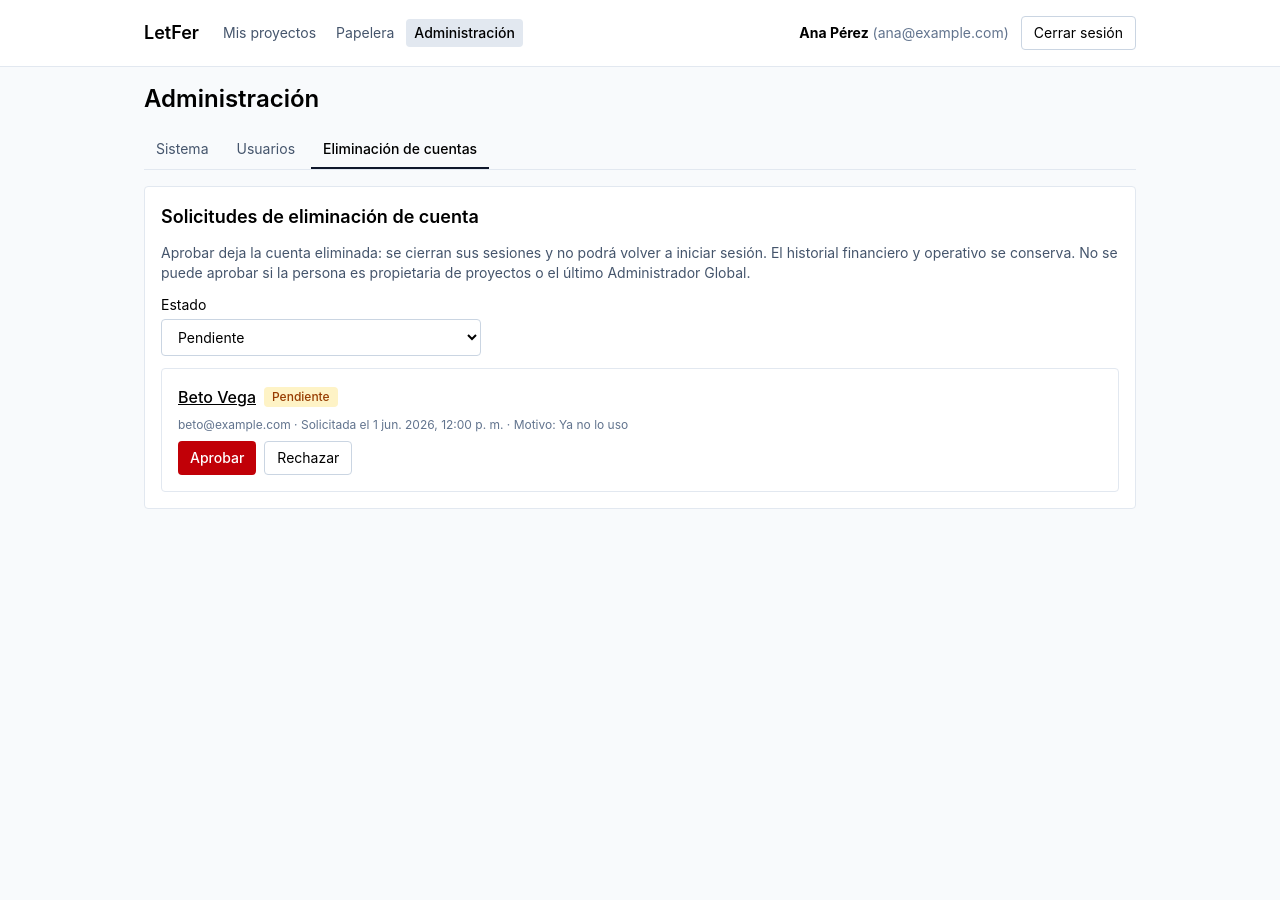
Test: solicitudes de eliminación de cuenta (§8) › aprueba con reautenticación y recarga la lista
The image size is (1280, 900).
Click the button with aria-label "Aprobar la eliminación de Beto Vega" at [217, 458], box [178,441,256,475]
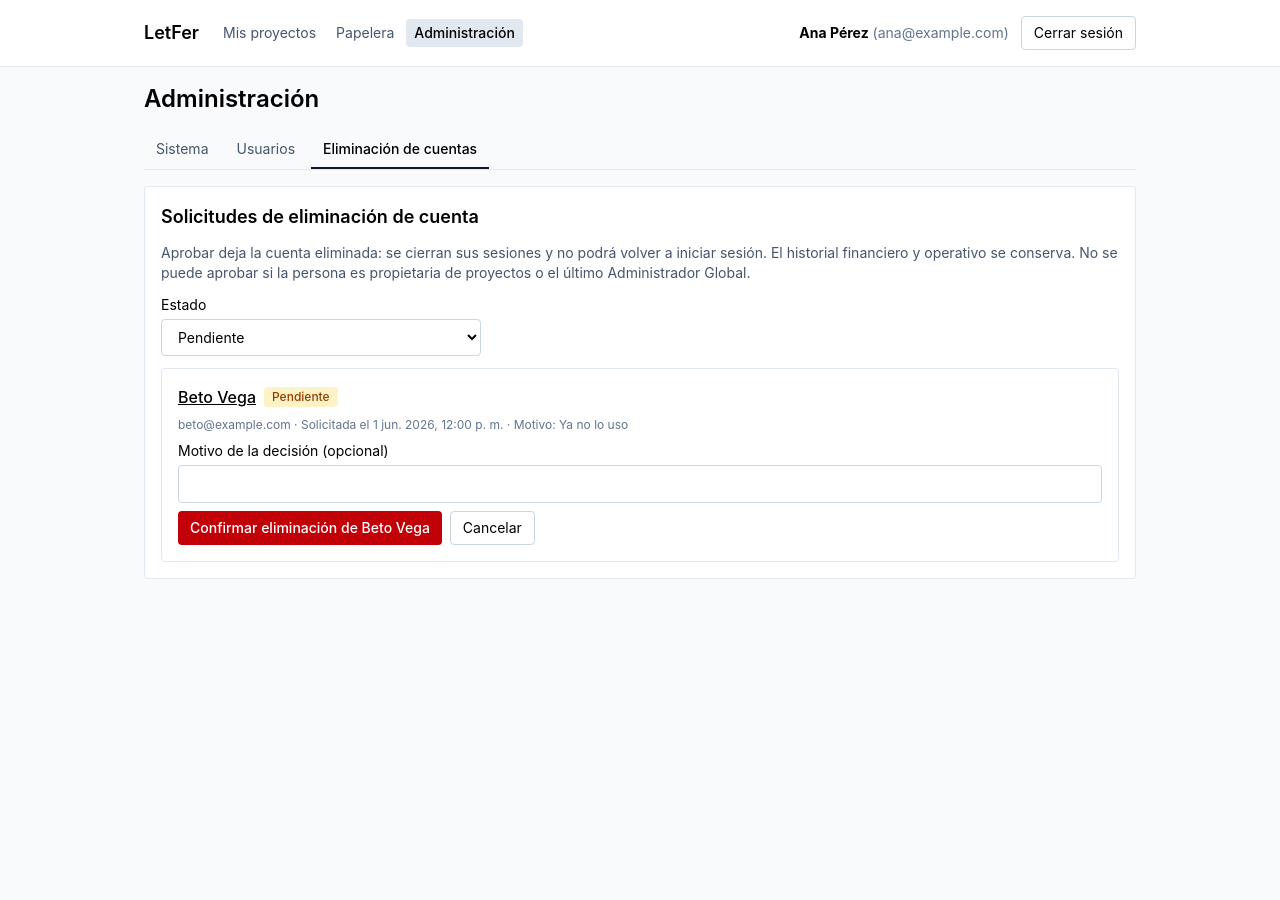
Type "Confirmado por correo" into the field labelled "Motivo de la decisión (opcional)" at [640, 484], box [178,465,1102,503]
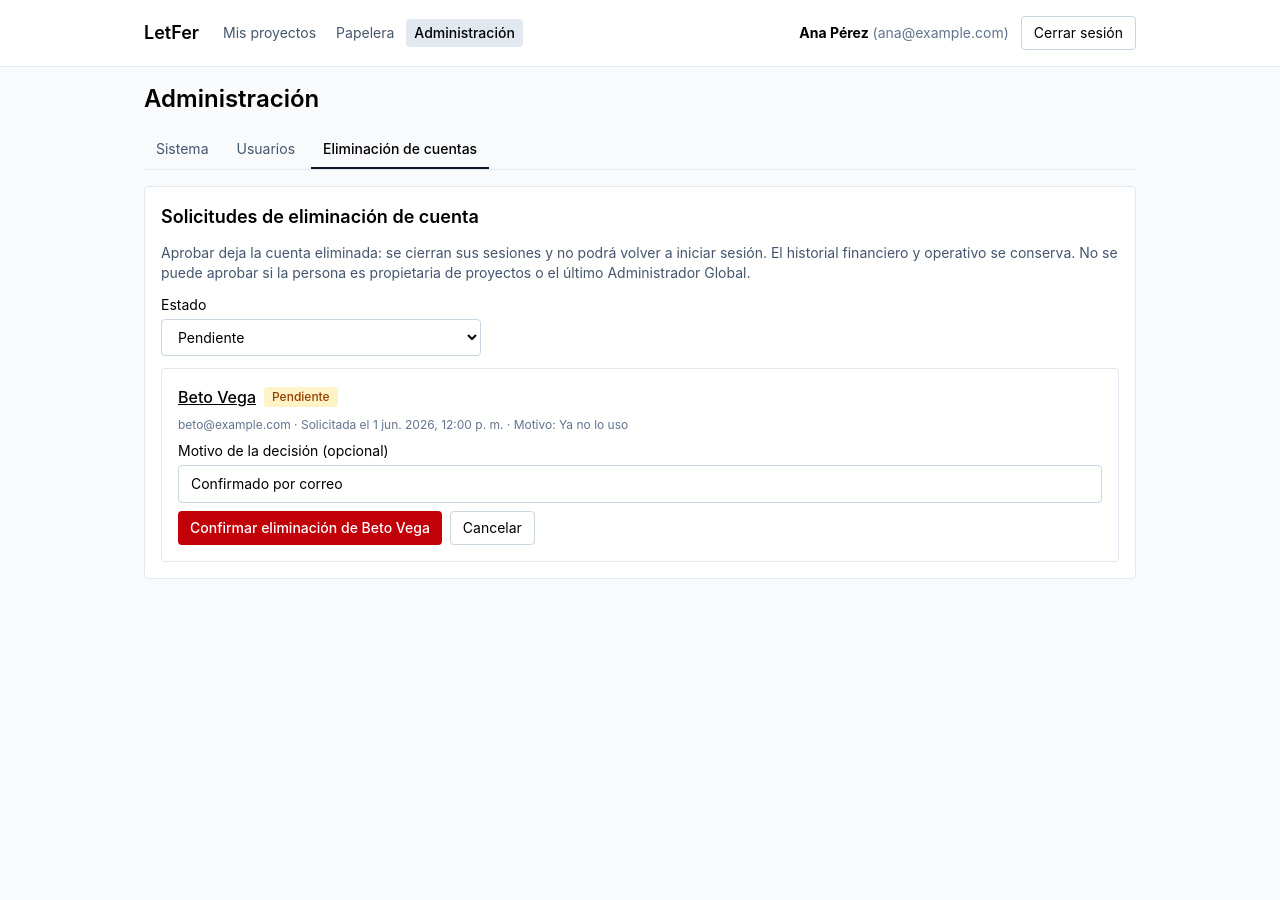
Click the button "Confirmar eliminación de Beto Vega" at [310, 528], box [178,511,442,545]
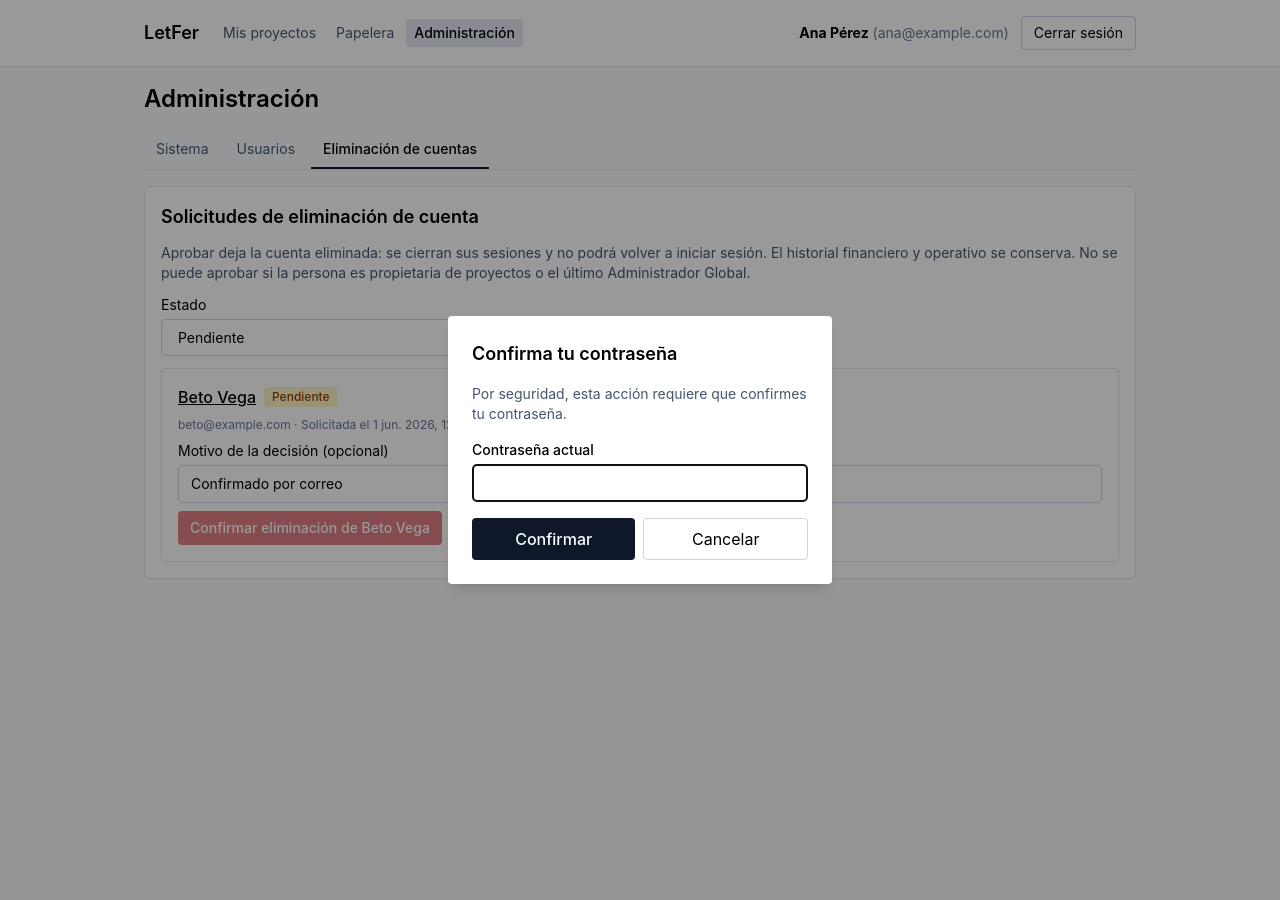
Type "mi-clave-secreta" into the password field labelled "Contraseña actual" at [640, 483], box [472,464,808,502]
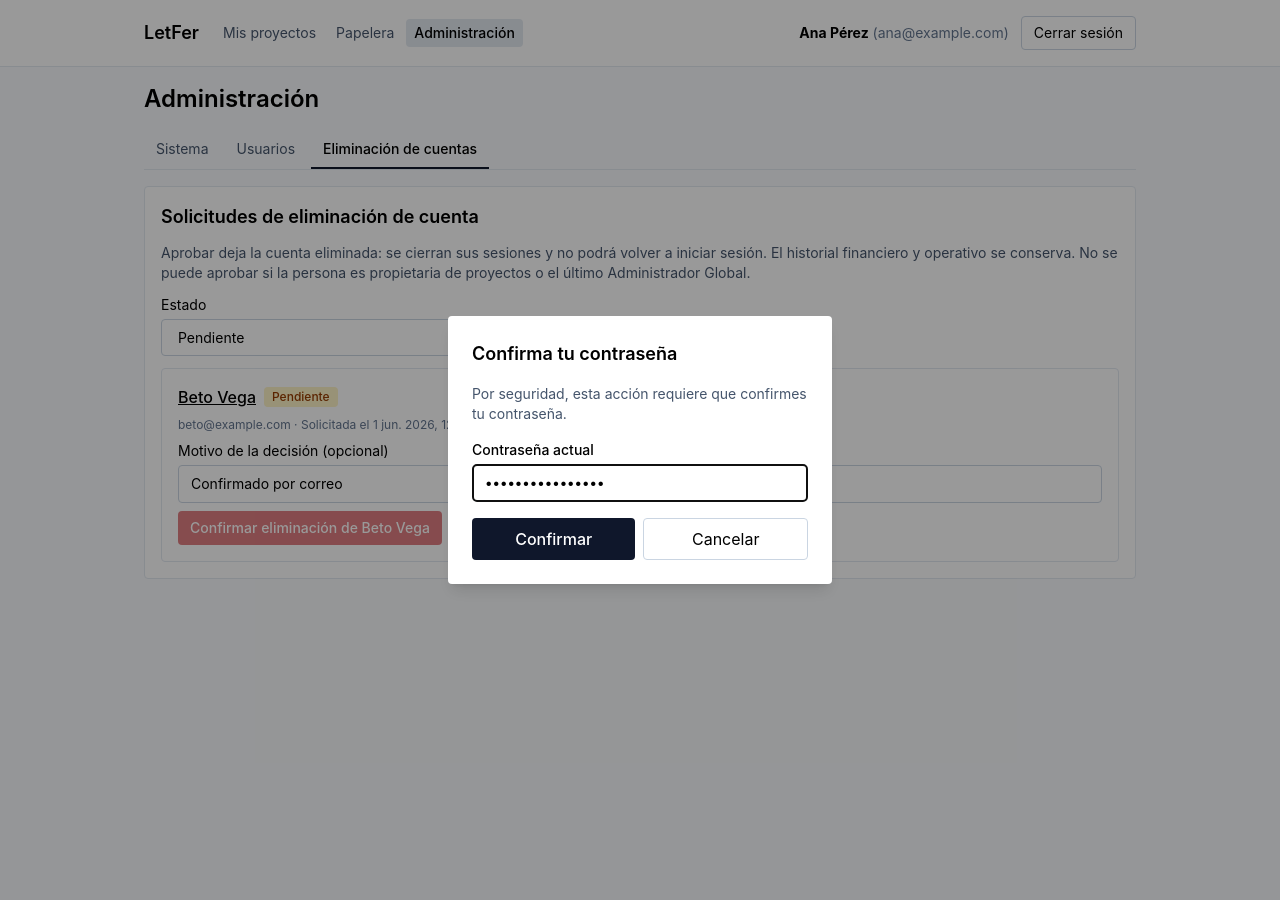
Click the button "Confirmar" at [554, 539], box [472,518,635,560]
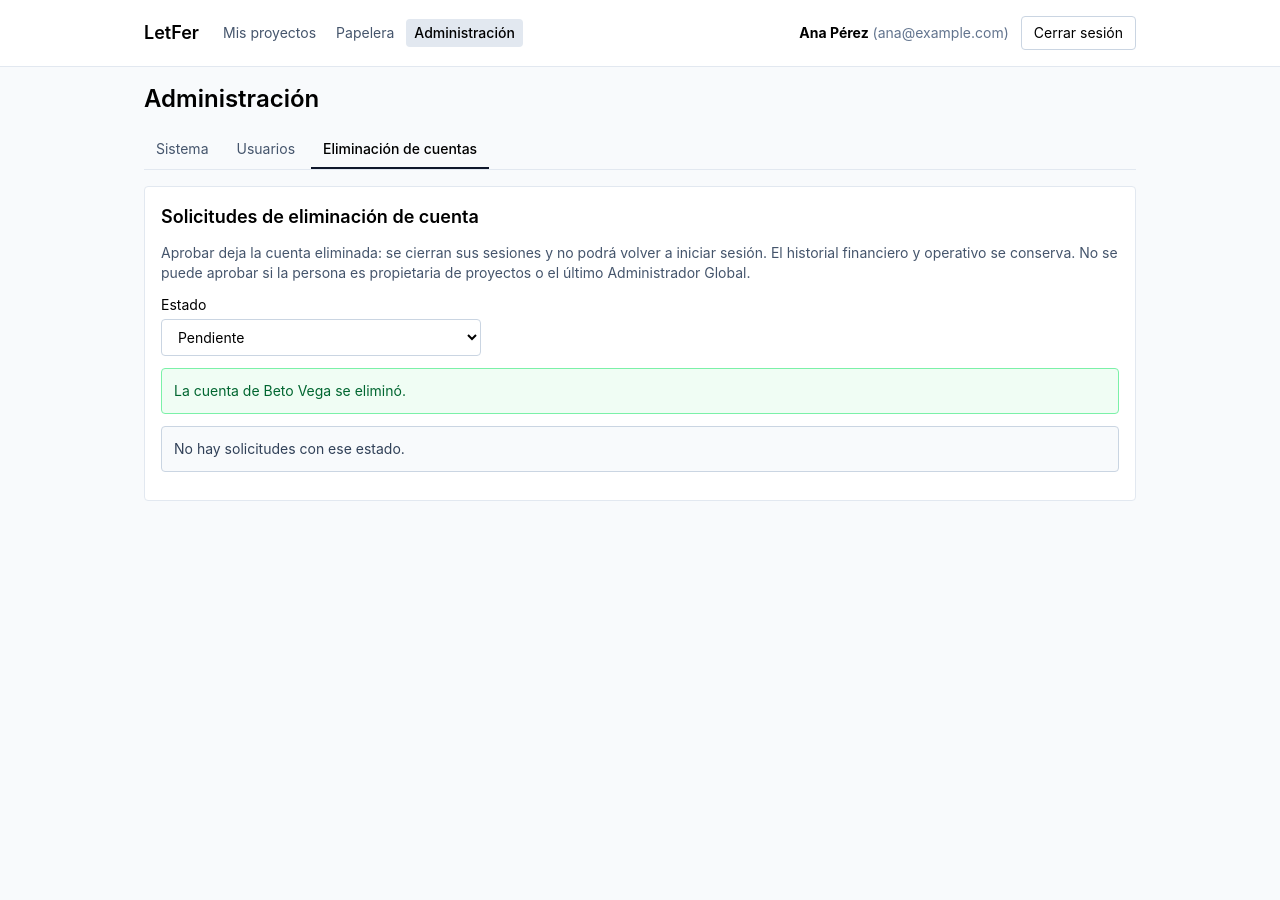
Now the text "La cuenta de Beto Vega se eliminó." is shown, box [161,368,1119,414]
Now the text "No hay solicitudes con ese estado." is shown, box [161,426,1119,472]
